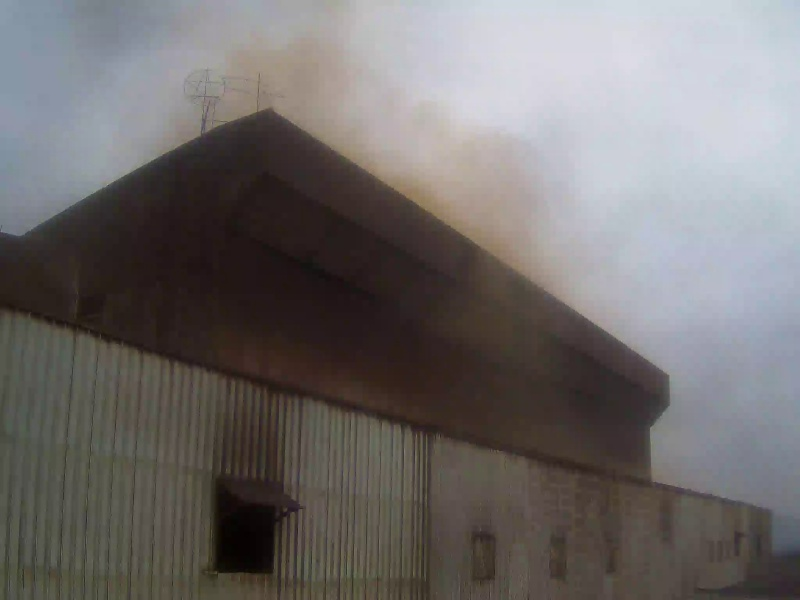Pessimo: (432, 156, 516, 216), (272, 73, 303, 104), (298, 95, 329, 126), (326, 111, 357, 142), (381, 148, 412, 179), (349, 129, 380, 160), (410, 166, 441, 197), (251, 72, 282, 103), (239, 52, 270, 83), (274, 50, 305, 81)
